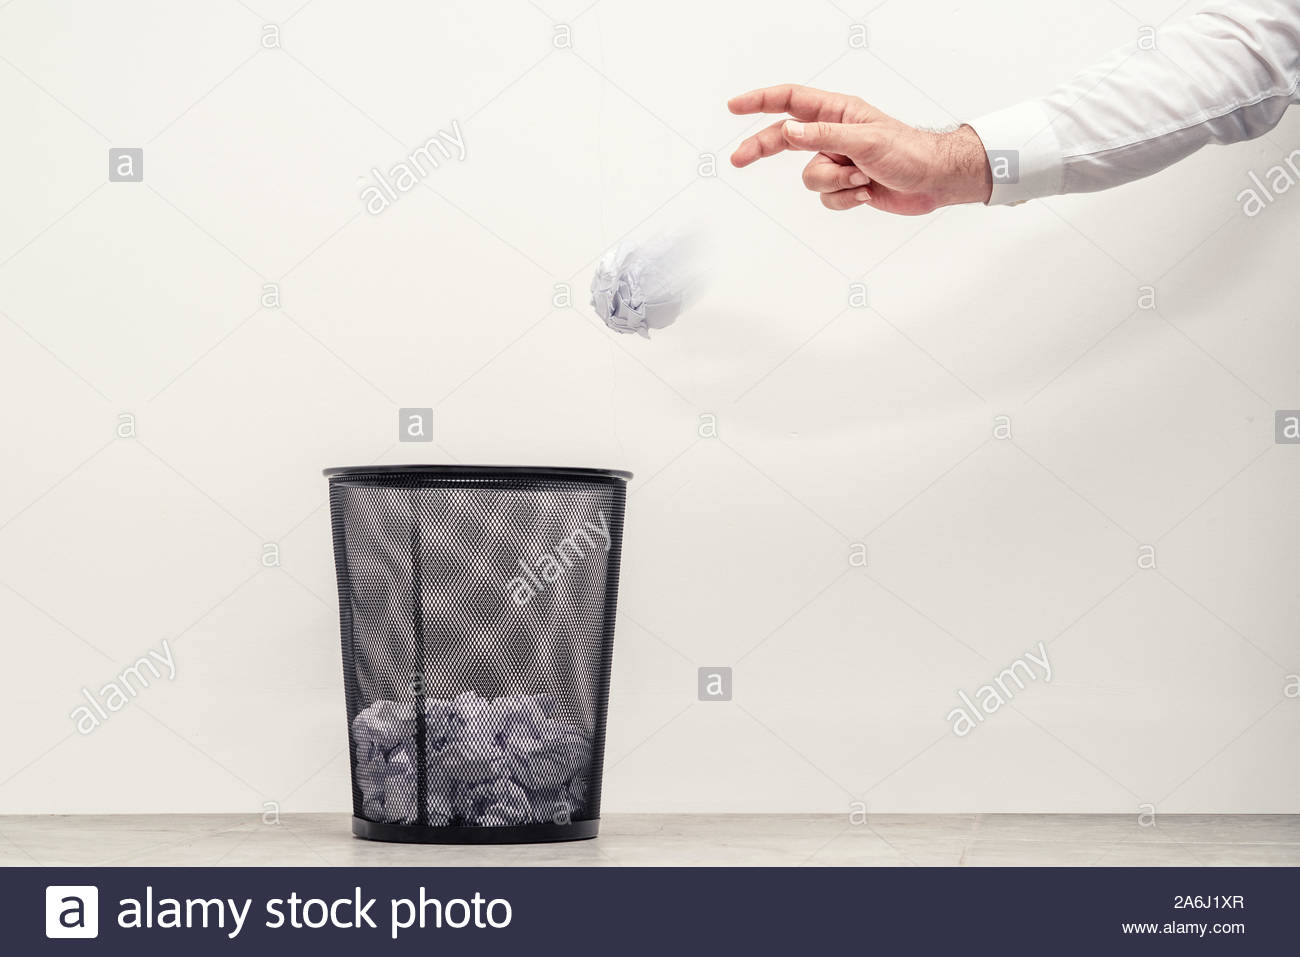paper: (558, 168, 719, 362)
